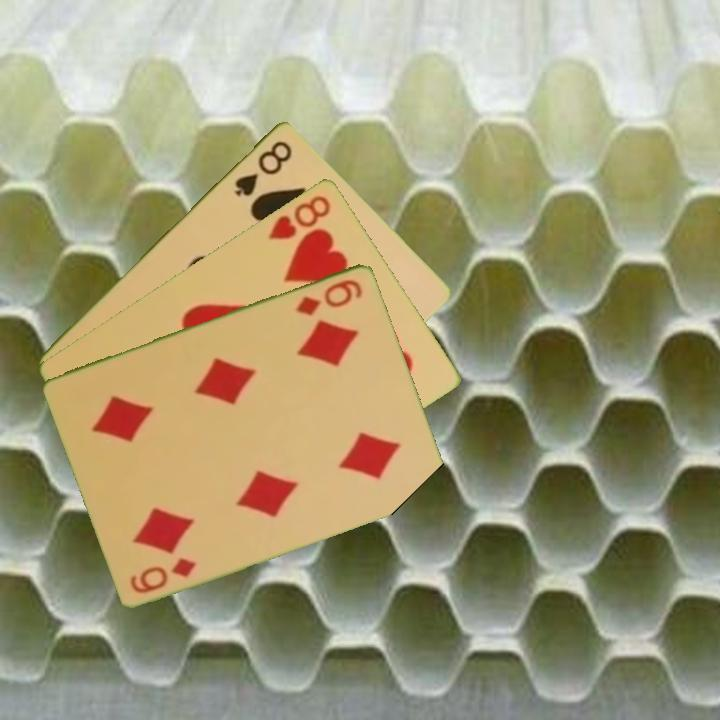6d: (292, 275, 366, 319), (127, 553, 200, 596)
8h: (265, 191, 334, 242)
8s: (230, 136, 295, 199)
